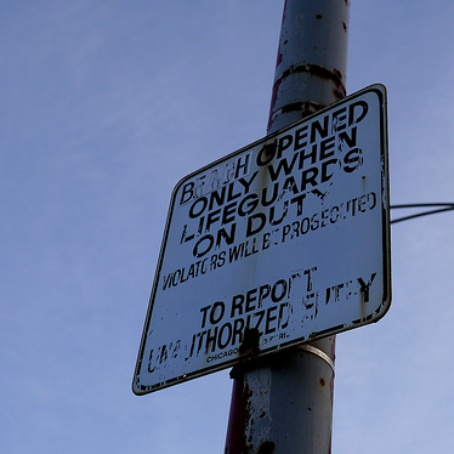sign: (117, 75, 408, 391)
sky: (1, 1, 243, 428), (351, 4, 454, 454)
